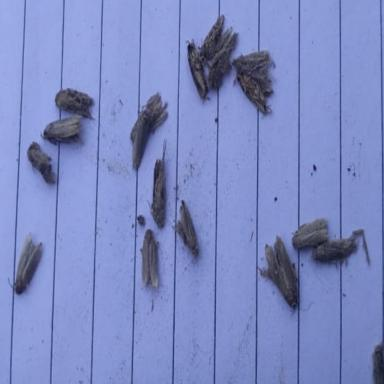pbw: (313, 226, 370, 269), (8, 230, 42, 294), (129, 91, 168, 142), (207, 28, 238, 91), (146, 137, 166, 228), (236, 68, 273, 112), (40, 113, 83, 146), (232, 49, 272, 83), (55, 87, 95, 120), (186, 38, 208, 98), (198, 14, 224, 64), (290, 216, 328, 250), (26, 140, 55, 183), (139, 228, 159, 288), (180, 198, 198, 257), (131, 118, 151, 170)
